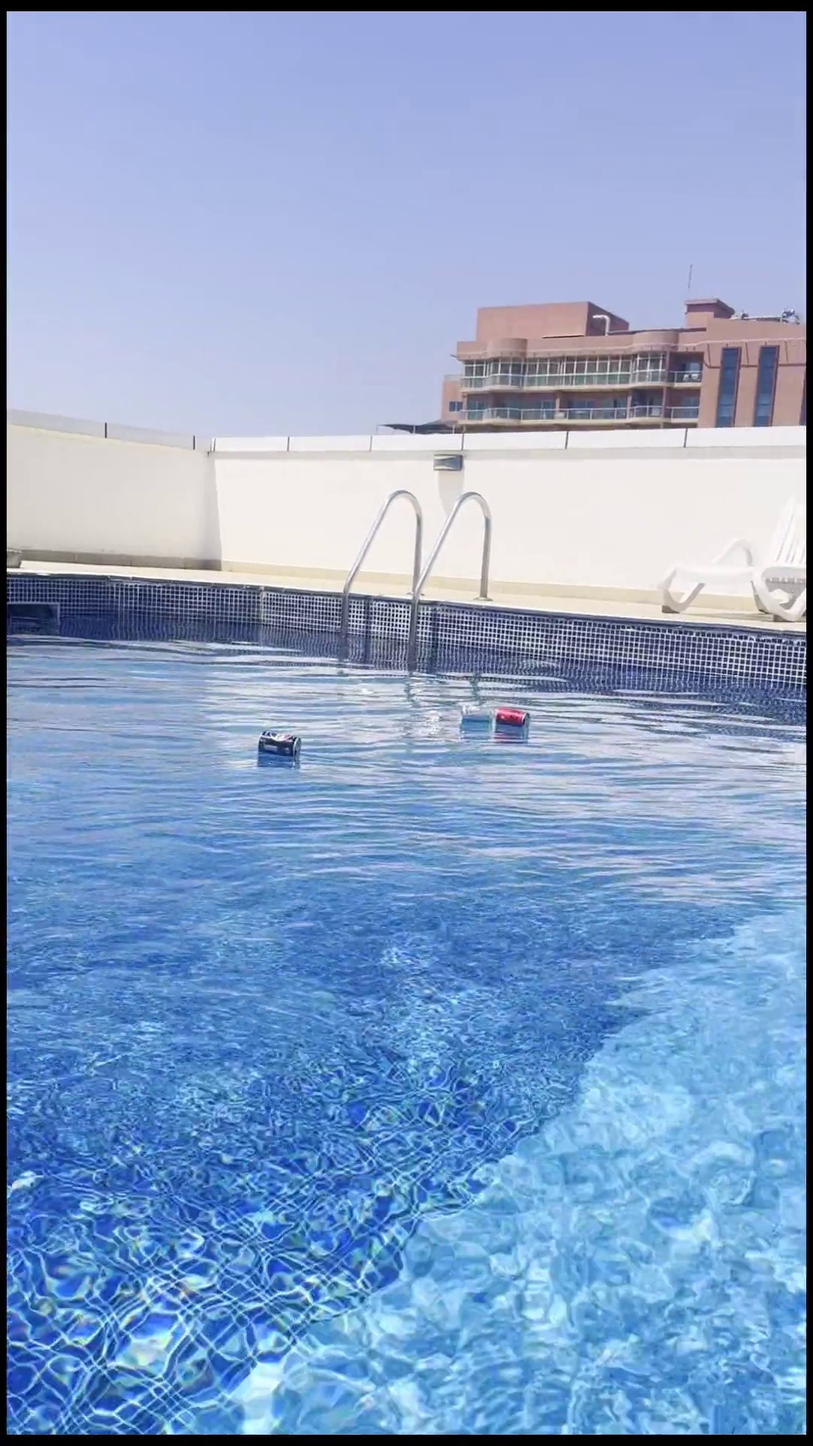debris: (253, 711, 301, 784), (491, 685, 530, 749), (460, 691, 495, 739)
